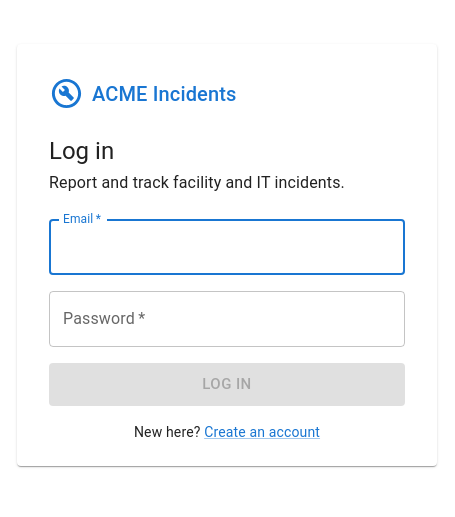
Test: LoginPage › shows the server message when the credentials are wrong
The width and height of the screenshot is (455, 517).
In the field labelled "Email *": (227, 247) left=49, top=219, right=405, bottom=275, type "dana@acme.inc"
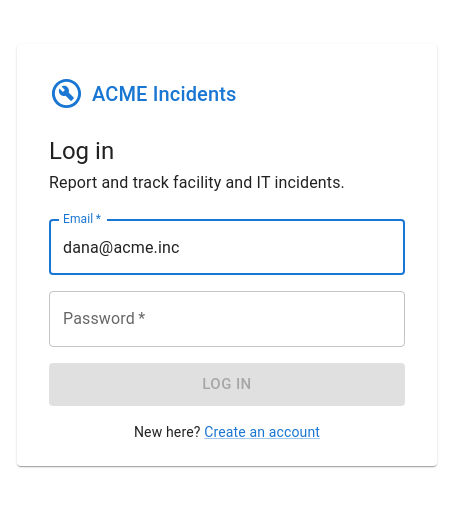
In the password field labelled "Password *": (227, 319) left=49, top=291, right=405, bottom=347, type "wrong-password"
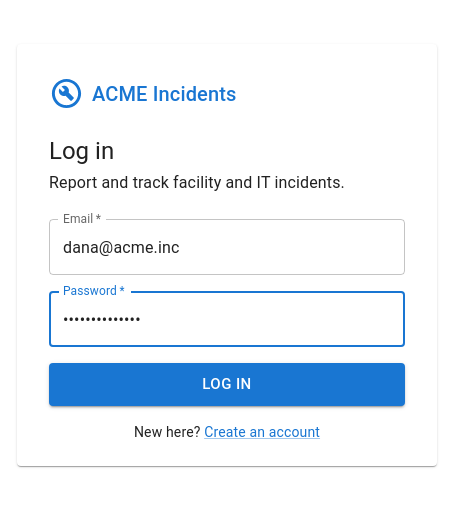
Click the button "Log in": (227, 385) left=49, top=363, right=405, bottom=406
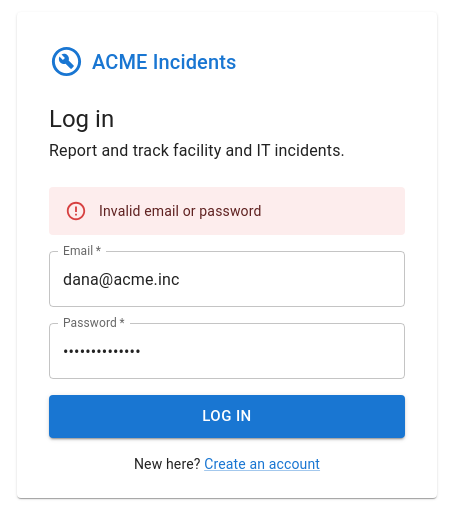
Expected: the button "Log in" is enabled, left=49, top=395, right=405, bottom=438
Expected: the message reads "Invalid email or password", left=99, top=203, right=262, bottom=219
